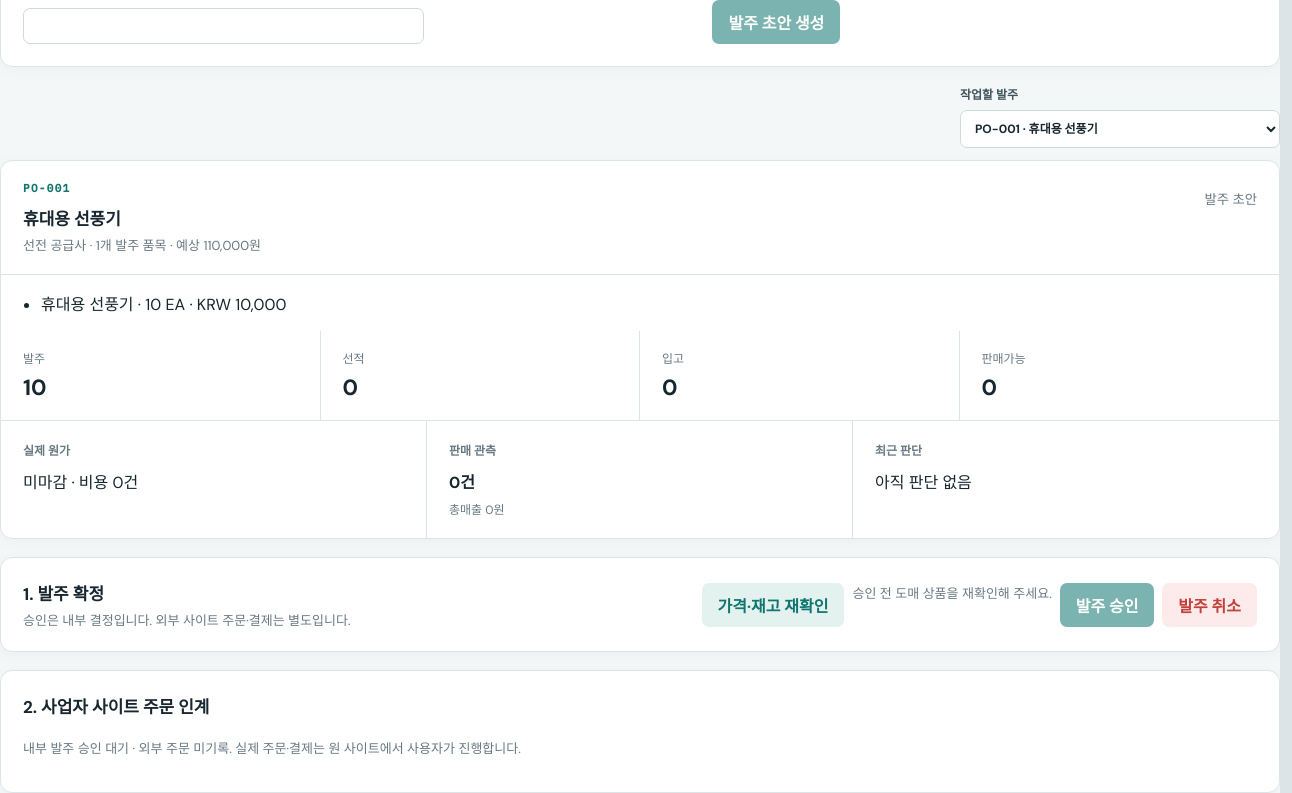
Test: 도매 API 출처 발주는 가격·재고 재확인 후 승인한다
The image size is (1292, 793).
(page scrolled)
Check: the button "발주 승인" is disabled, box [1060,582,1154,626]
Click the button "가격·재고 재확인" at point(773, 604), box [702,582,844,626]
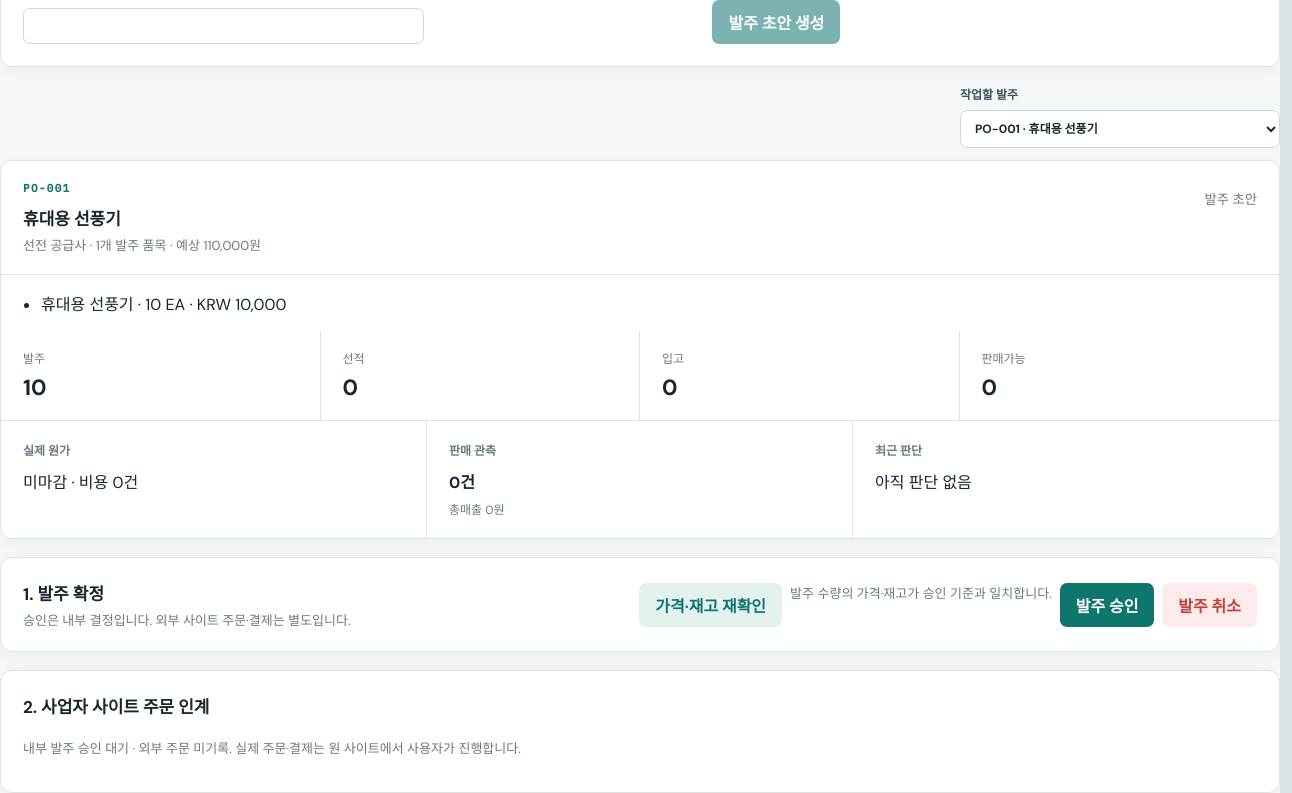
Check: the text "발주 수량의 가격·재고가 승인 기준과 일치합니다." is shown, box [790,584,1052,602]
Check: the button "발주 승인" is enabled, box [1060,582,1154,626]
